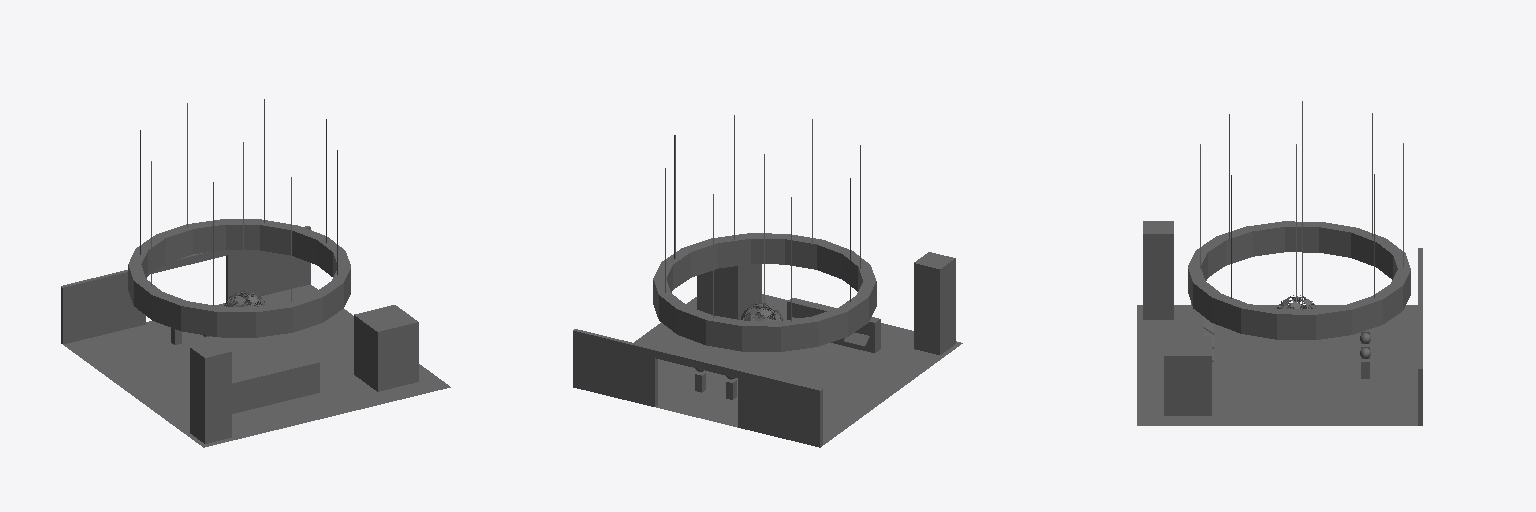
Rendered from StandModel.obj.
The picture shows the model from 3 angles: view 1: azimuth 30°, elevation 25°; view 2: azimuth 150°, elevation 25°; view 3: azimuth 270°, elevation 25°; orthographic projection.
Visible parts, largest first — view 1: Plane001; view 2: Plane001; view 3: Plane001.
Part boxes in pixels (left/top/right/bottom): Plane001: left=61, top=99, right=450, bottom=447; Plane001: left=573, top=115, right=962, bottom=447; Plane001: left=1137, top=101, right=1422, bottom=425.
Size of the model in its own units: 139 by 117 by 139.